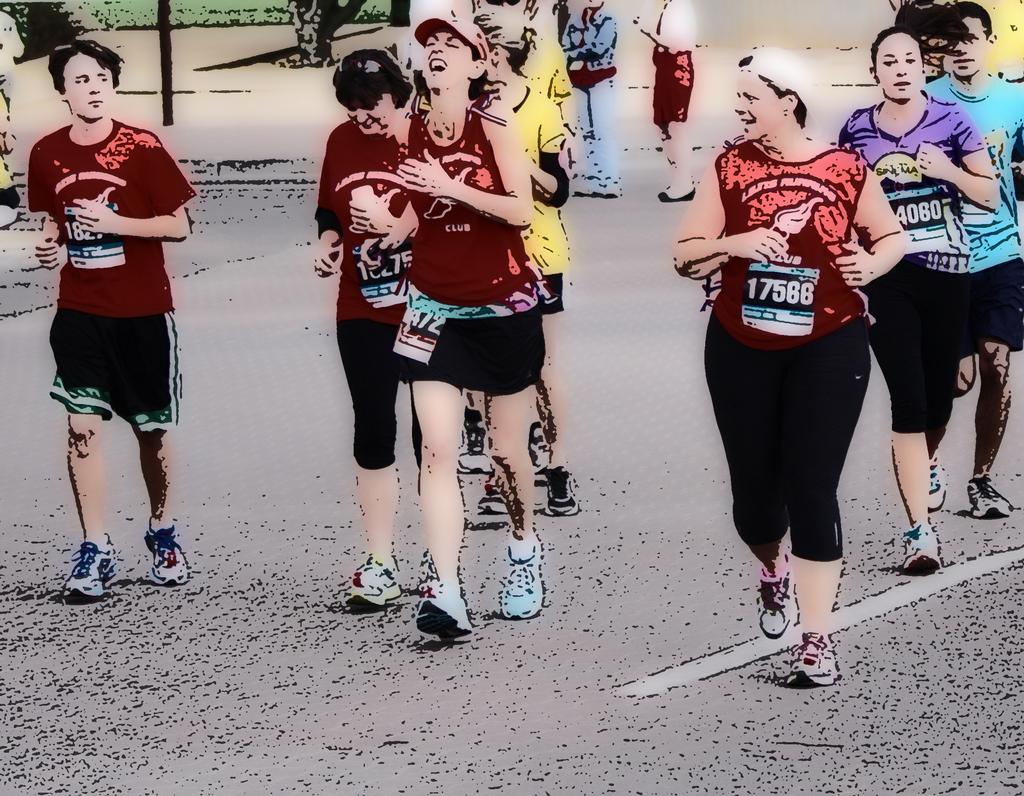Sem Máscara: (413, 25, 477, 89), (876, 34, 923, 101), (735, 70, 779, 136), (63, 50, 107, 114), (345, 89, 395, 134), (938, 16, 982, 64)
